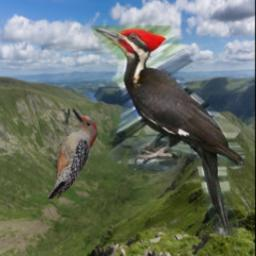Woodpecker: (92, 25, 245, 236), (49, 109, 98, 200)
